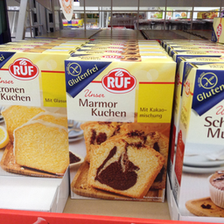cake: (64, 57, 177, 205), (1, 52, 70, 179), (175, 61, 224, 217)
